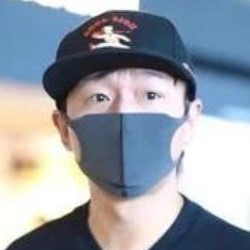mask: (54, 106, 197, 196)
